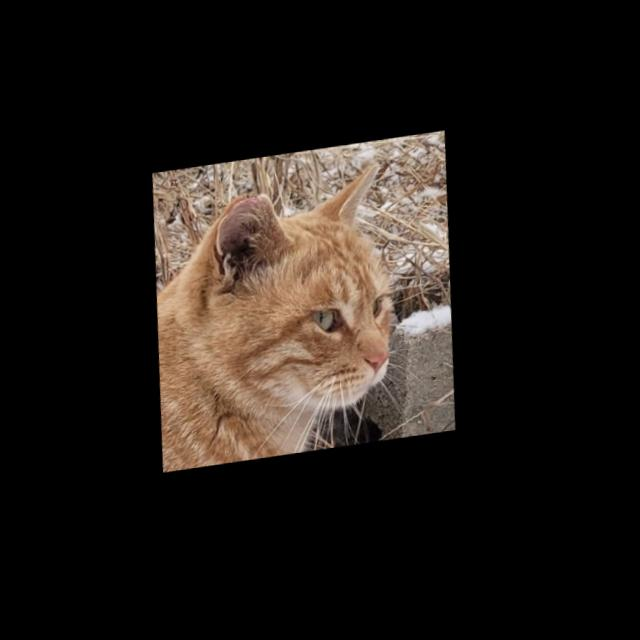animals: (186, 160, 421, 442)
